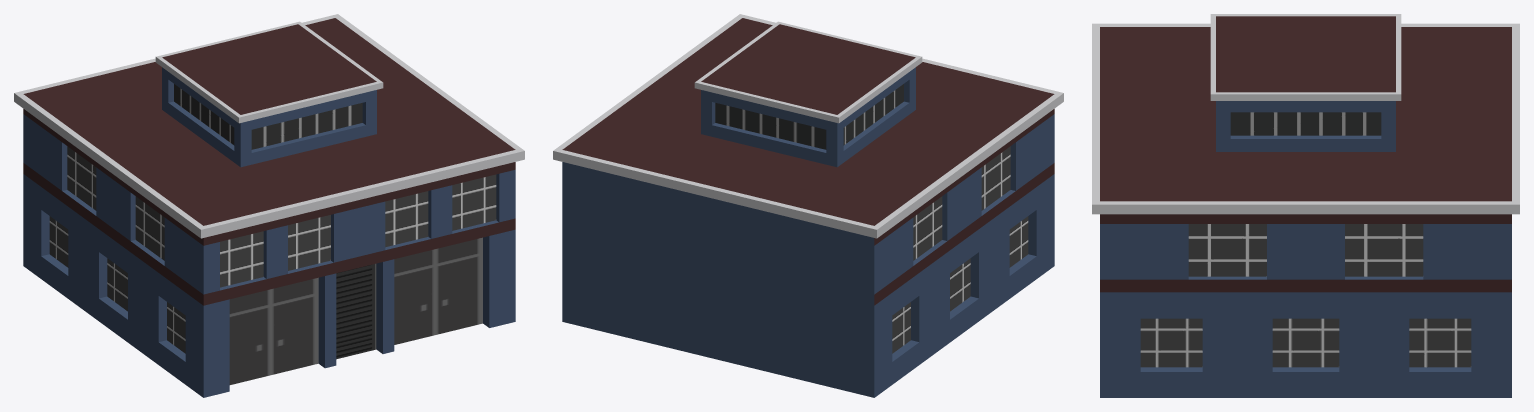
Rendered from building1c.FBX.
3 views of the same model, side by side, from view 1: azimuth 30°, elevation 25°; view 2: azimuth 150°, elevation 25°; view 3: azimuth 270°, elevation 25° (orthographic). The views are drawn at different scales.
Parts seen in each view (by area): view 1: building1c; view 2: building1c; view 3: building1c.
Boxes of the visible parts, x1,y1,x2,y2 form: building1c: (14,14,524,397); building1c: (553,14,1063,397); building1c: (1092,14,1519,397).
Size of the model in its own units: 20.76 by 13.74 by 20.76.
